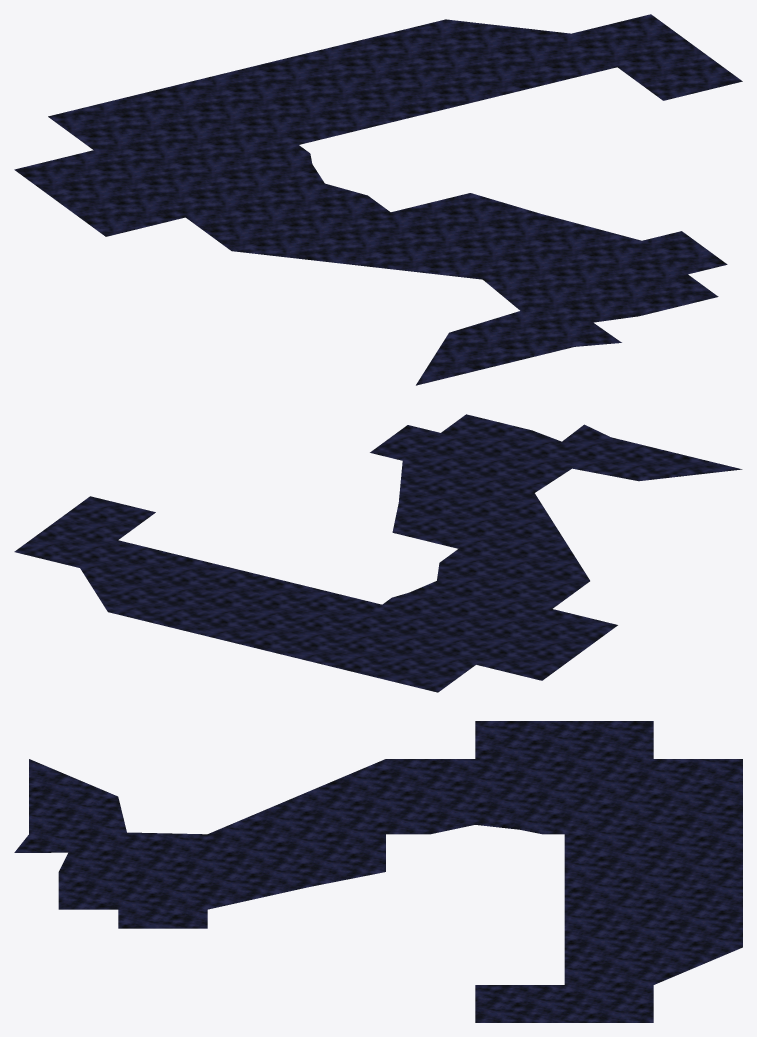
The model's file is OVERHILL_A_01_FOG_PLANE_02.fbx.
3 renders of one model, top to bottom at view 1: azimuth 30°, elevation 25°; view 2: azimuth 150°, elevation 25°; view 3: azimuth 270°, elevation 25°, orthographic. The views are drawn at different scales.
Visible parts, largest first — view 1: OVERHILL_A_01_FOG_PLANE_02; view 2: OVERHILL_A_01_FOG_PLANE_02; view 3: OVERHILL_A_01_FOG_PLANE_02.
Boxes of the visible parts, x1,y1,x2,y2 form: OVERHILL_A_01_FOG_PLANE_02: [14, 14, 742, 385]; OVERHILL_A_01_FOG_PLANE_02: [14, 414, 742, 692]; OVERHILL_A_01_FOG_PLANE_02: [14, 721, 742, 1022].
Bounding box in the file's own units: 2322565 × 0.484 × 2371385.
1 material, 1 textured.
